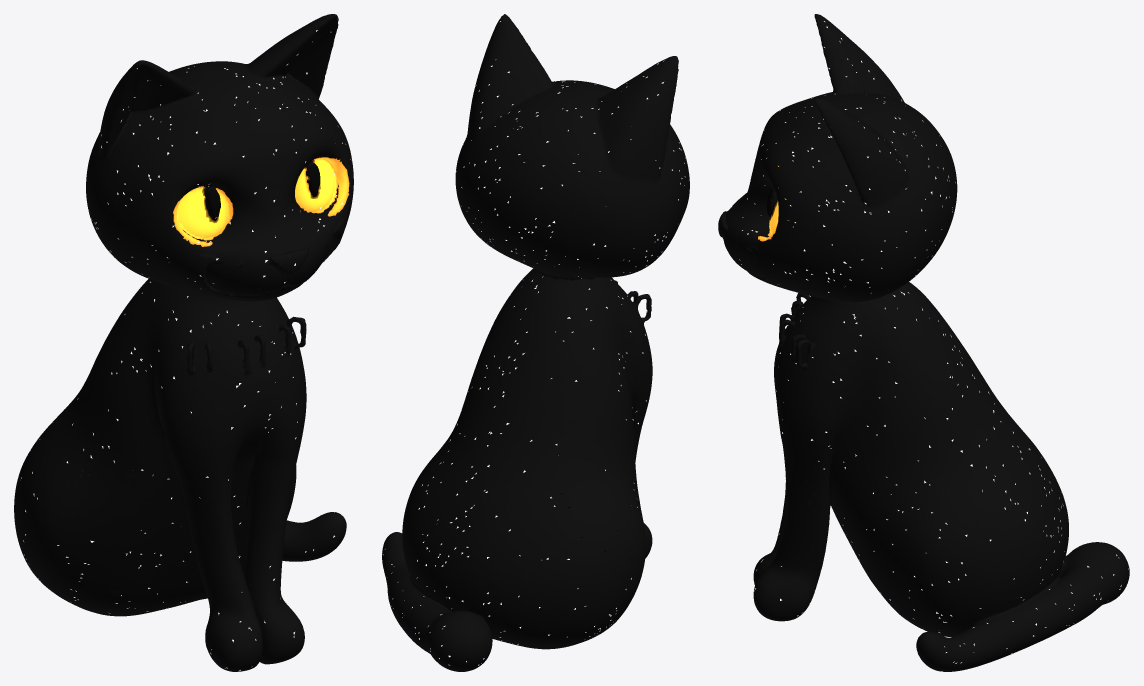
File: cat_blink.glb
3 views of the same model, side by side, from view 1: azimuth 30°, elevation 25°; view 2: azimuth 150°, elevation 25°; view 3: azimuth 270°, elevation 25° (orthographic). The views are drawn at different scales.
Visible parts, largest first — view 1: cat; view 2: cat; view 3: cat.
Boxes of the visible parts, x1,y1,x2,y2 form: cat: (14, 14, 353, 671); cat: (382, 14, 689, 671); cat: (718, 14, 1129, 671).
Bounding box in the file's own units: 0.811 × 1.58 × 1.06.
